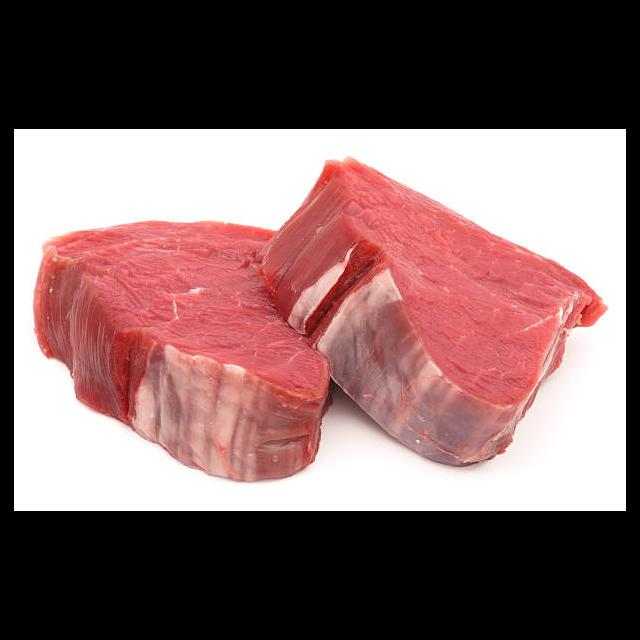beef: (261, 153, 608, 467), (33, 220, 345, 484)
